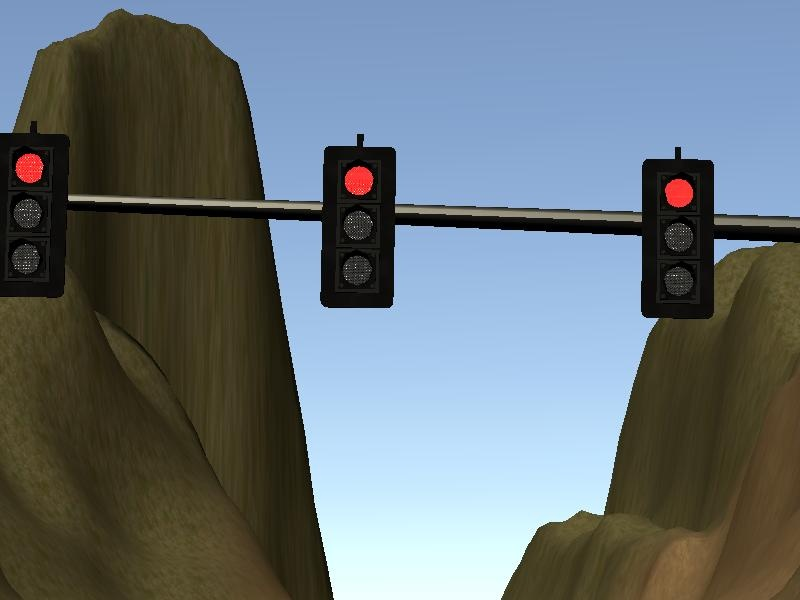RED: (320, 145, 398, 309), (637, 157, 715, 321), (1, 130, 71, 298)
